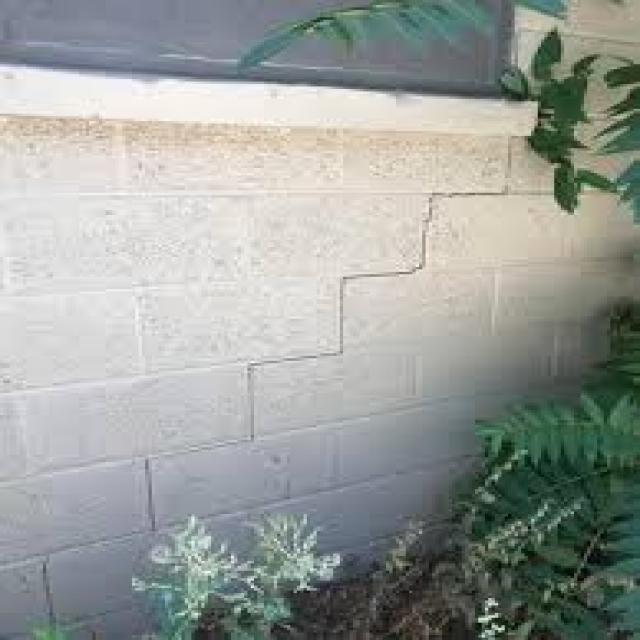Crack: (29, 134, 514, 630)
